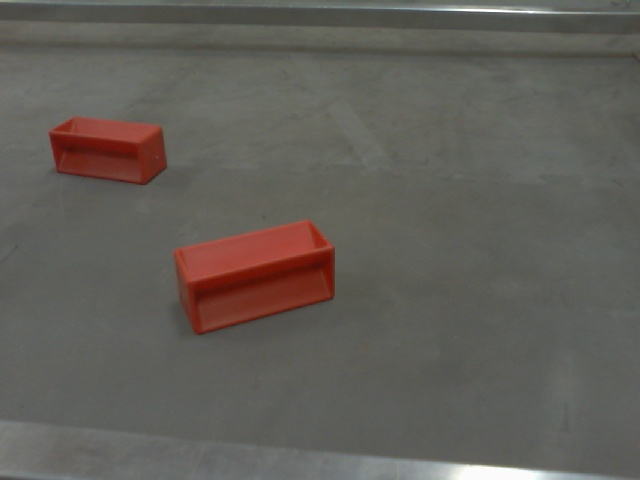RedSample: (172, 219, 336, 337), (47, 114, 170, 188)
